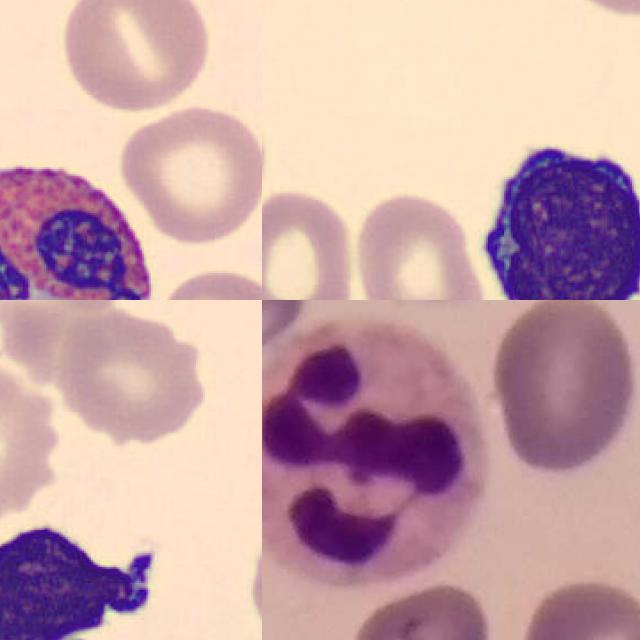Eosinophil: (0, 140, 163, 300)
Lymphocyte: (465, 124, 640, 300), (0, 509, 169, 640)
Neutrophil: (262, 316, 488, 584)
Platelets: (127, 546, 159, 583)
RBC: (50, 308, 216, 442), (113, 100, 262, 244), (55, 0, 215, 114), (349, 188, 489, 300), (0, 357, 69, 524), (262, 184, 358, 300), (153, 264, 262, 300)
